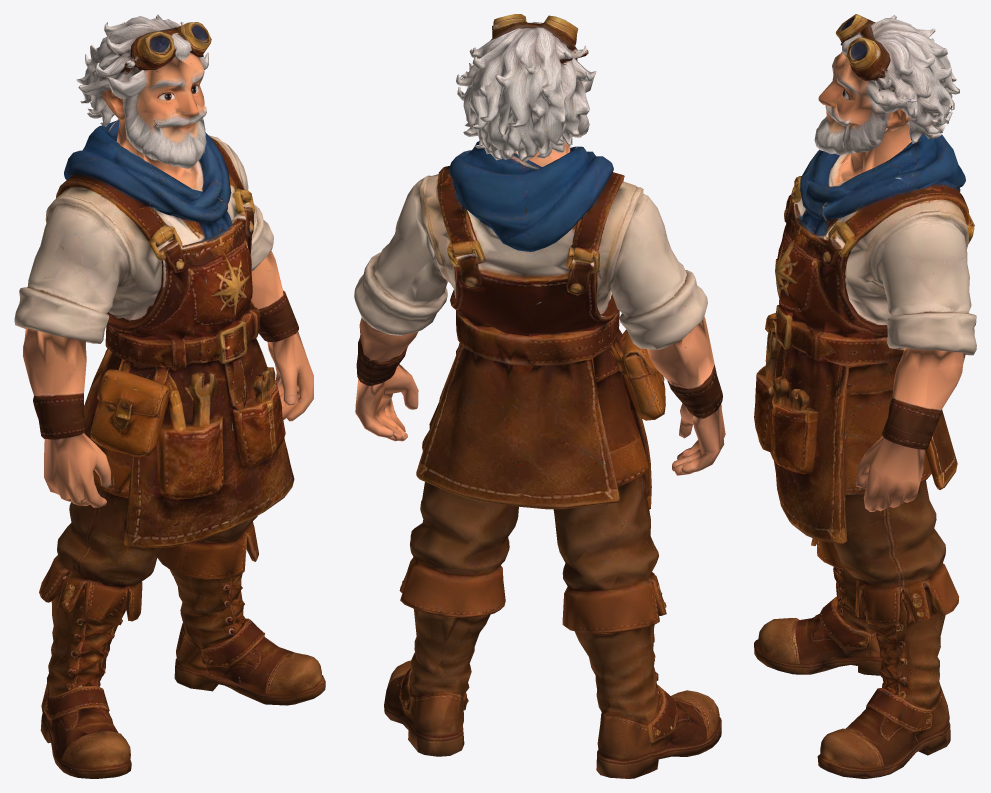
Rendered from builder.glb.
3 views of the same model, side by side, from view 1: azimuth 30°, elevation 25°; view 2: azimuth 150°, elevation 25°; view 3: azimuth 270°, elevation 25° (orthographic). The views are drawn at different scales.
Bounding box in the file's own units: 0.8094 × 1.75 × 0.5138.
Materials: 1 (1 with a texture image).
